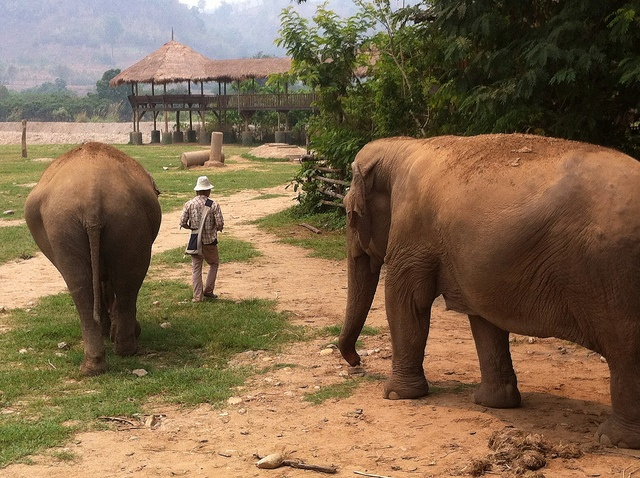elephant: (339, 134, 640, 451), (26, 139, 162, 377)
